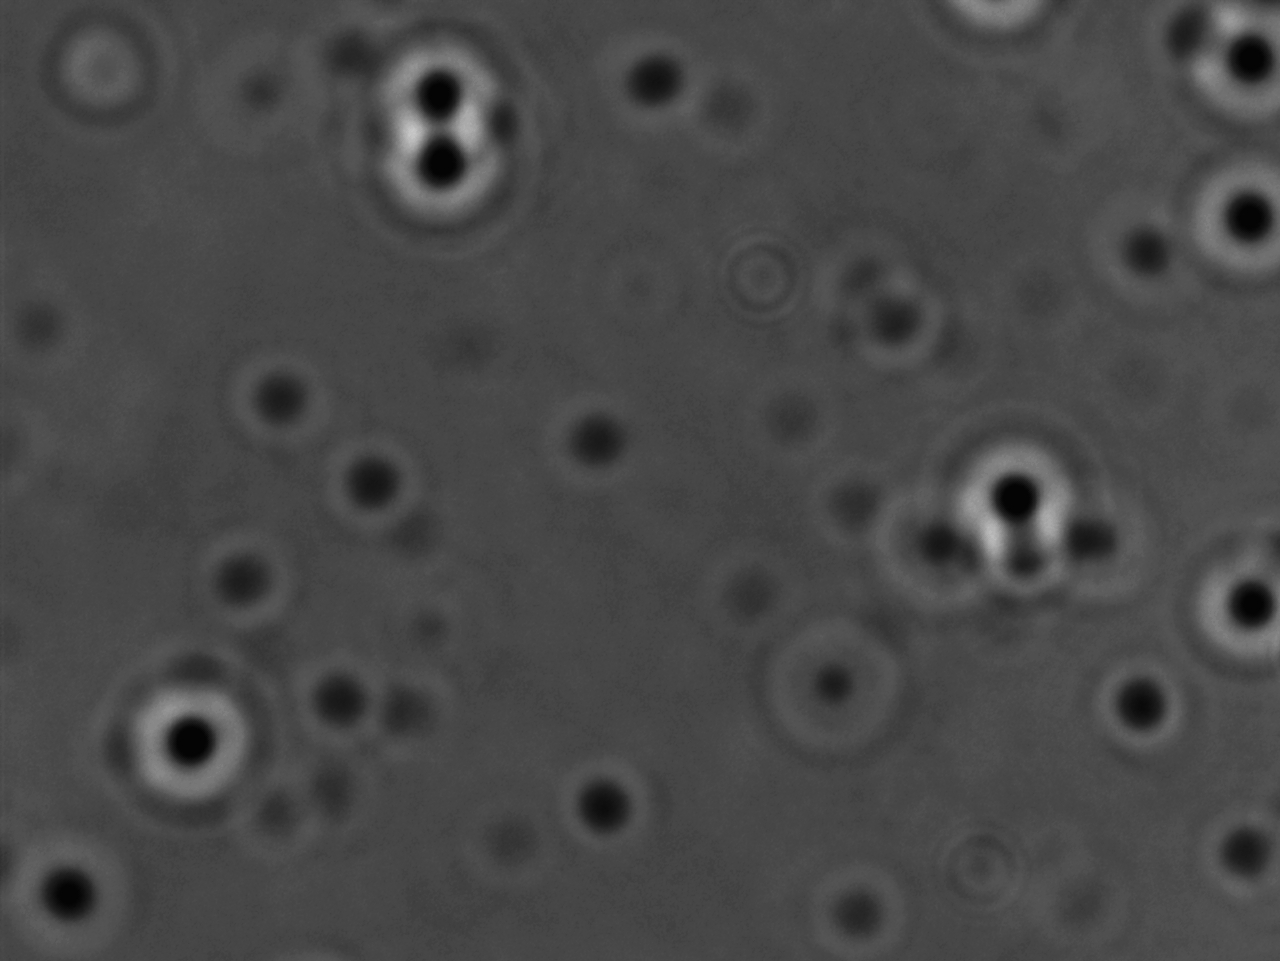depth:-32: (919, 407, 1095, 577), (109, 660, 282, 827), (365, 111, 519, 256), (360, 26, 500, 168), (1169, 157, 1280, 289), (1179, 540, 1280, 681)
